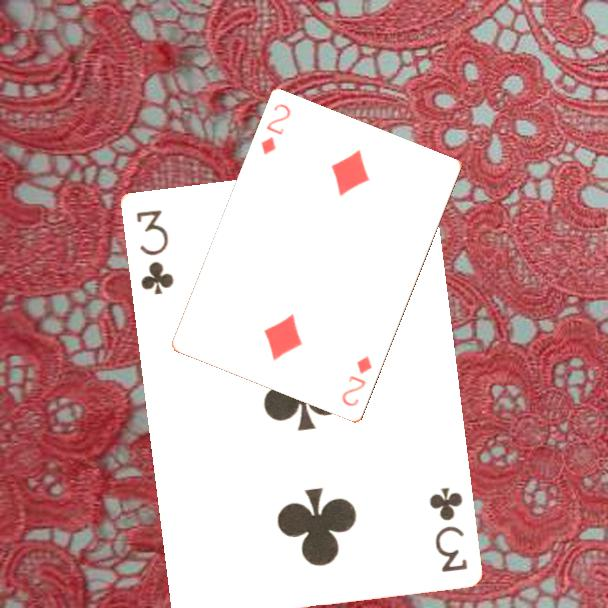c03: (132, 205, 177, 298), (425, 483, 470, 575)
d02: (338, 352, 375, 410), (257, 100, 294, 158)
